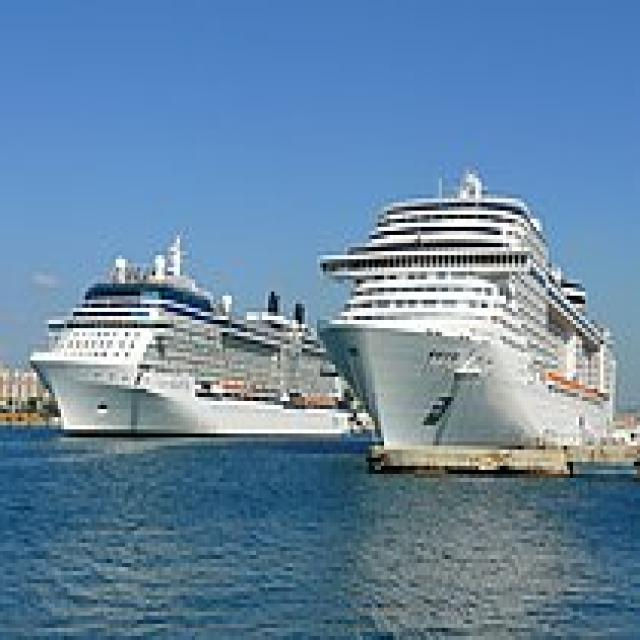Cruise: (310, 162, 616, 446), (24, 227, 375, 437)
